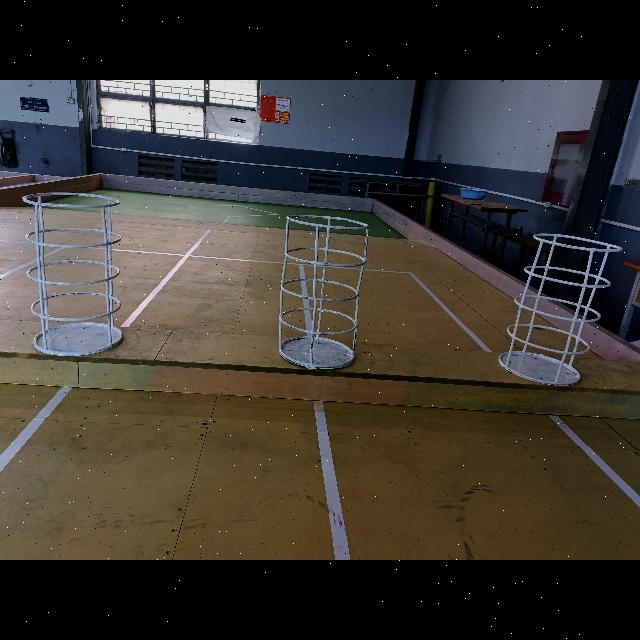S: (497, 231, 625, 389), (22, 189, 125, 356), (276, 210, 369, 371)
